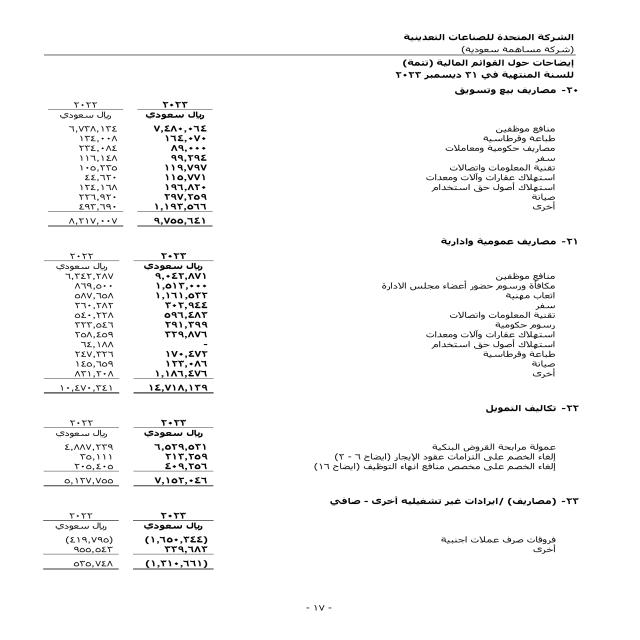notes: (396, 57, 581, 68)
table: (18, 248, 216, 404), (41, 97, 235, 233), (33, 414, 222, 496), (33, 508, 216, 583)
